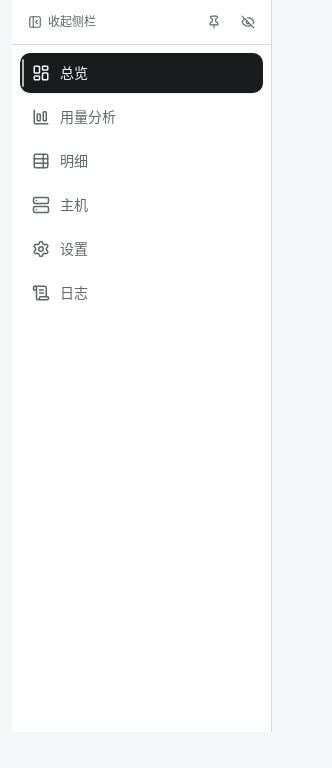
Scenario: 侧栏三态切换 › 收缩 → 隐藏：侧栏离开 DOM，只留下召回触发条
Step 1. Click the button with test id "sidebar-toggle-collapsed" → (62, 22), box [20,8,104,36]
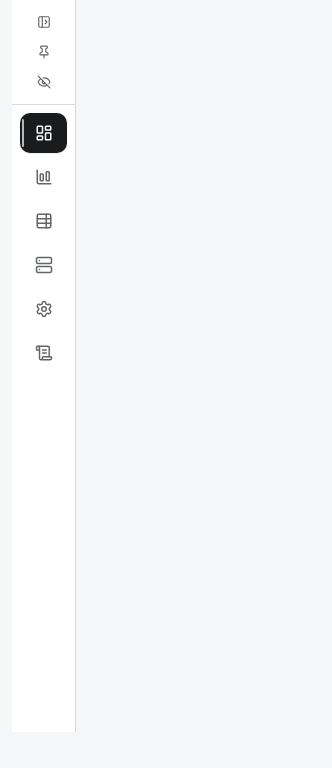
Step 2. Click the button with test id "sidebar-toggle-hidden" → (44, 82), box [20,68,67,96]
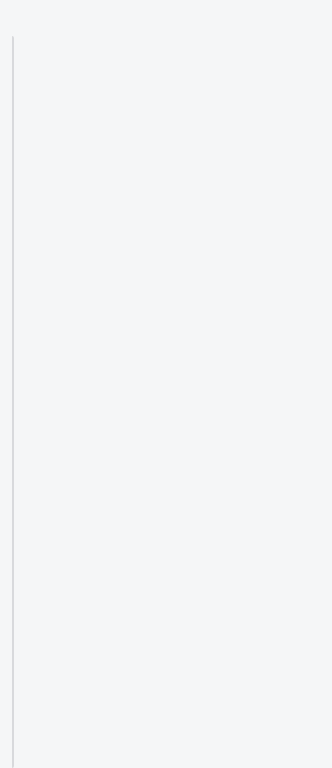
Expected: the element with test id "app-sidebar" is gone
